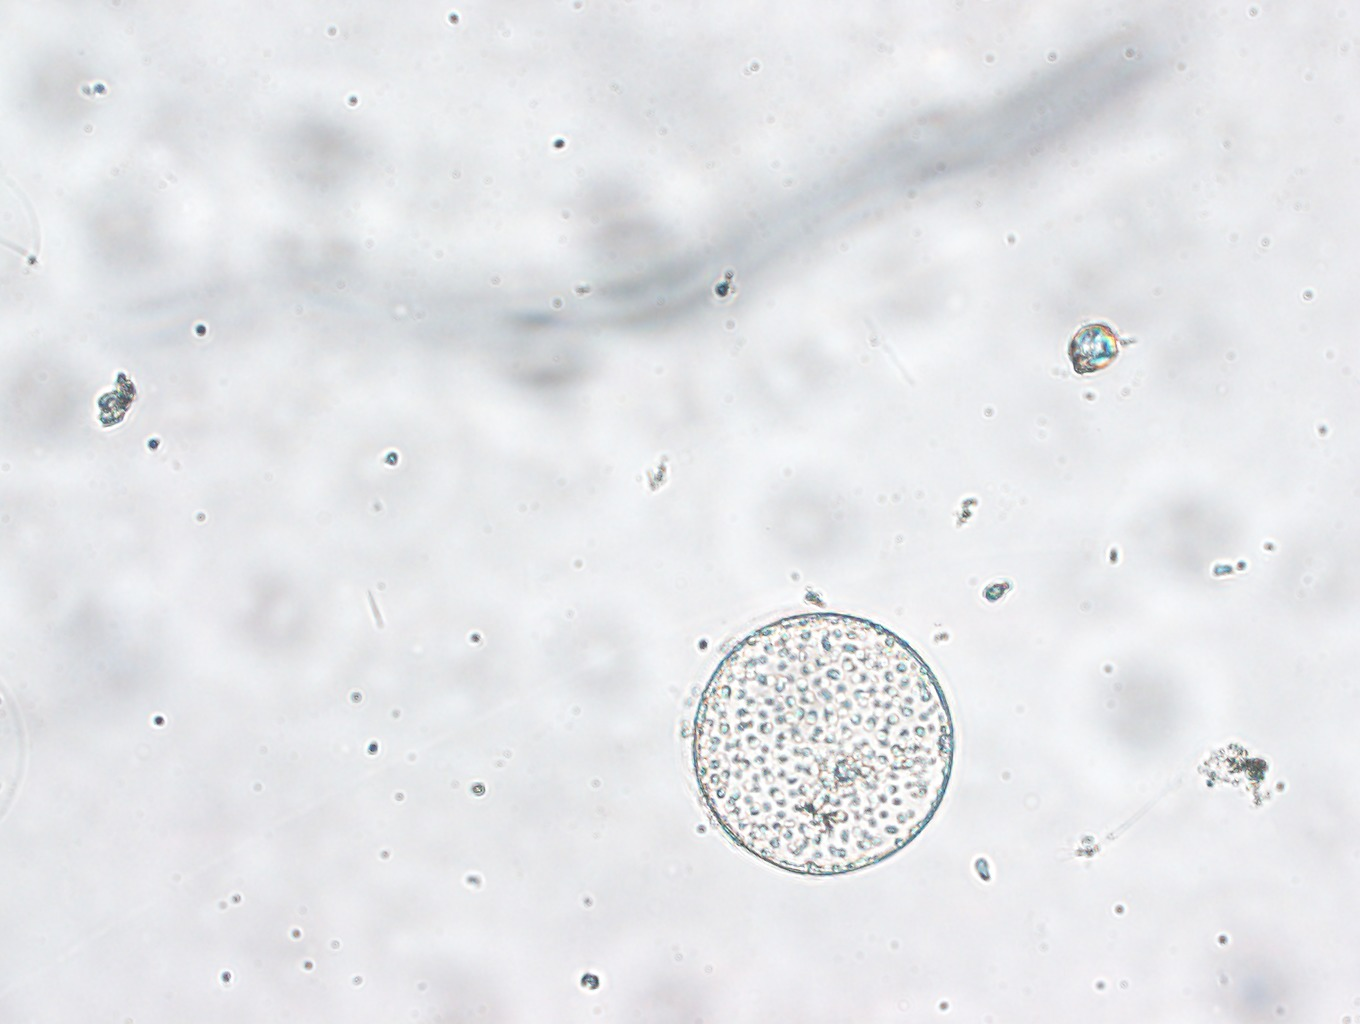coscinodiscus: (684, 610, 960, 876)
